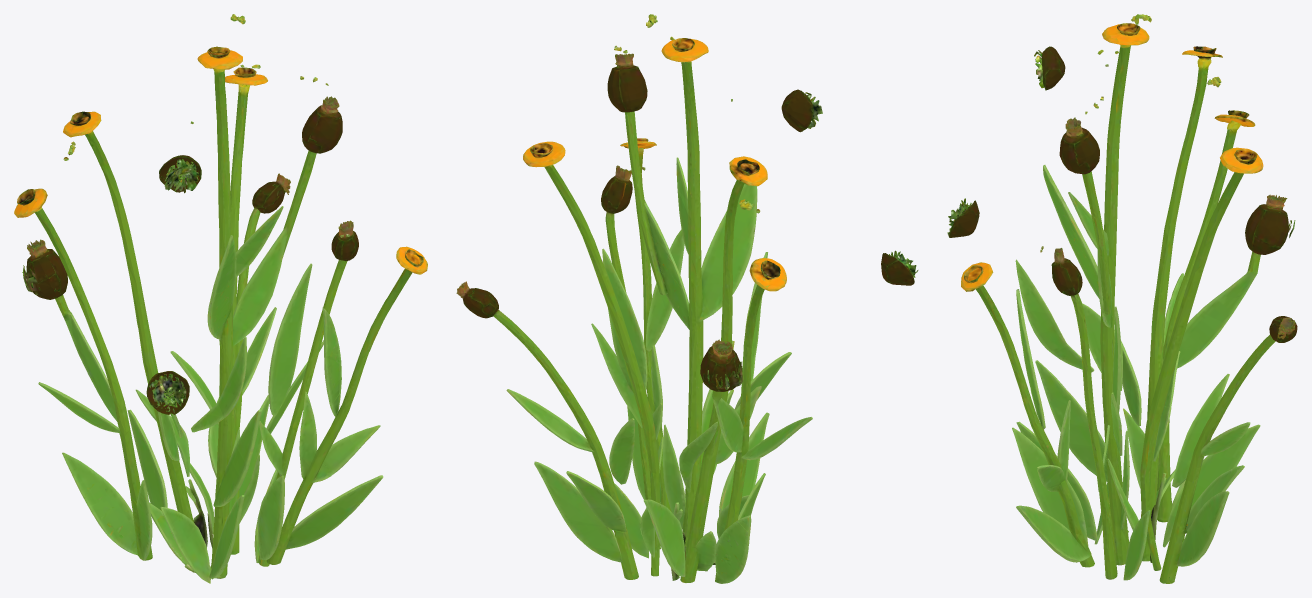
Rendered from flower.glb.
The picture shows the model from 3 angles, left to right: view 1: azimuth 30°, elevation 25°; view 2: azimuth 150°, elevation 25°; view 3: azimuth 270°, elevation 25°; orthographic projection. The views are drawn at different scales.
Parts seen in each view (by area): view 1: geometry_0; view 2: geometry_0; view 3: geometry_0.
Part boxes in pixels (left/top/right/bottom): geometry_0: left=14, top=14, right=427, bottom=583; geometry_0: left=456, top=14, right=918, bottom=583; geometry_0: left=947, top=14, right=1297, bottom=583.
Bounding box in the file's own units: 0.5749 × 0.9981 × 0.5624.
Materials: 1 (1 with a texture image).
